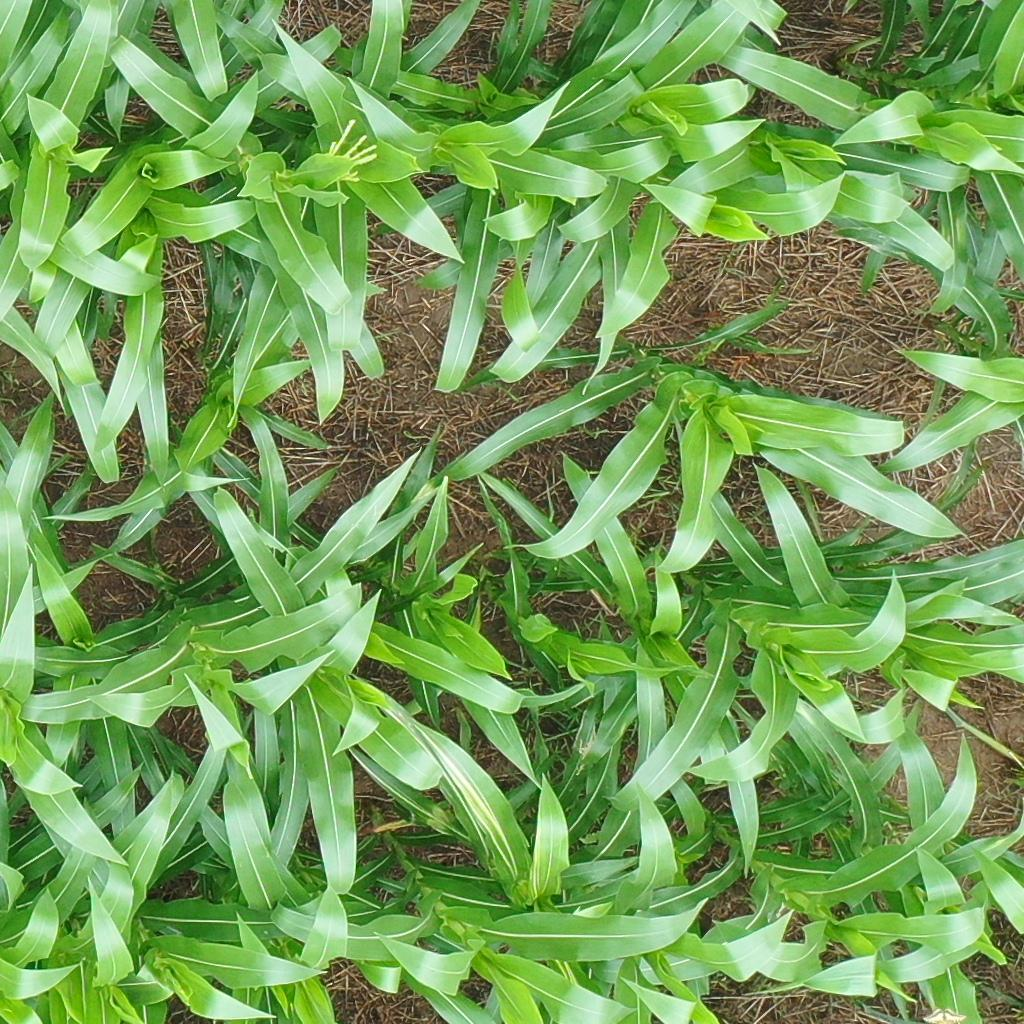Tassel: (325, 115, 381, 184)
